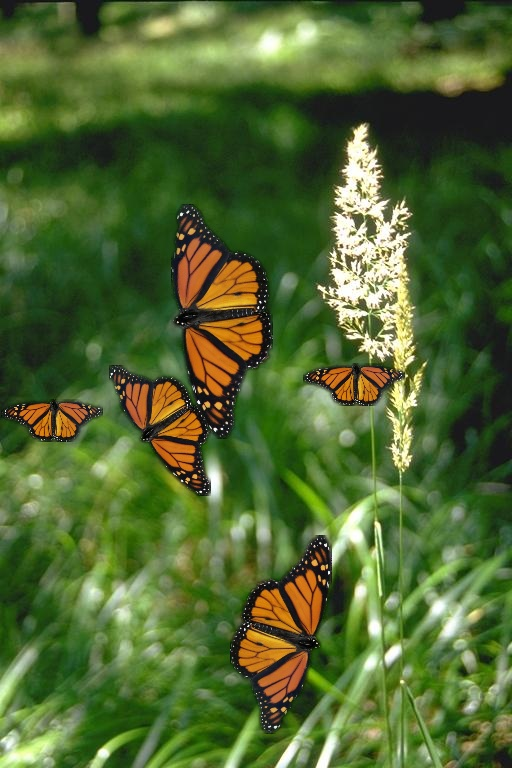danaus_plexippus: (171, 204, 273, 439), (230, 535, 332, 734), (109, 365, 211, 496), (303, 363, 405, 406), (1, 399, 103, 442)
